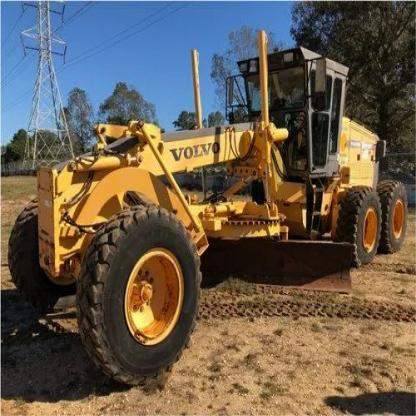bull_dozer/loader/grader: (19, 25, 414, 385)
